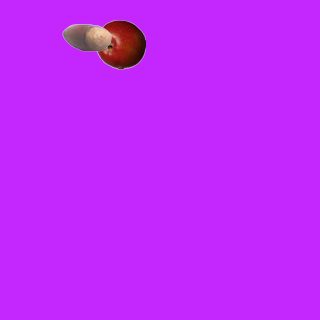Apple Braeburn: (95, 19, 145, 69)
Hazelnut: (61, 12, 111, 62)
